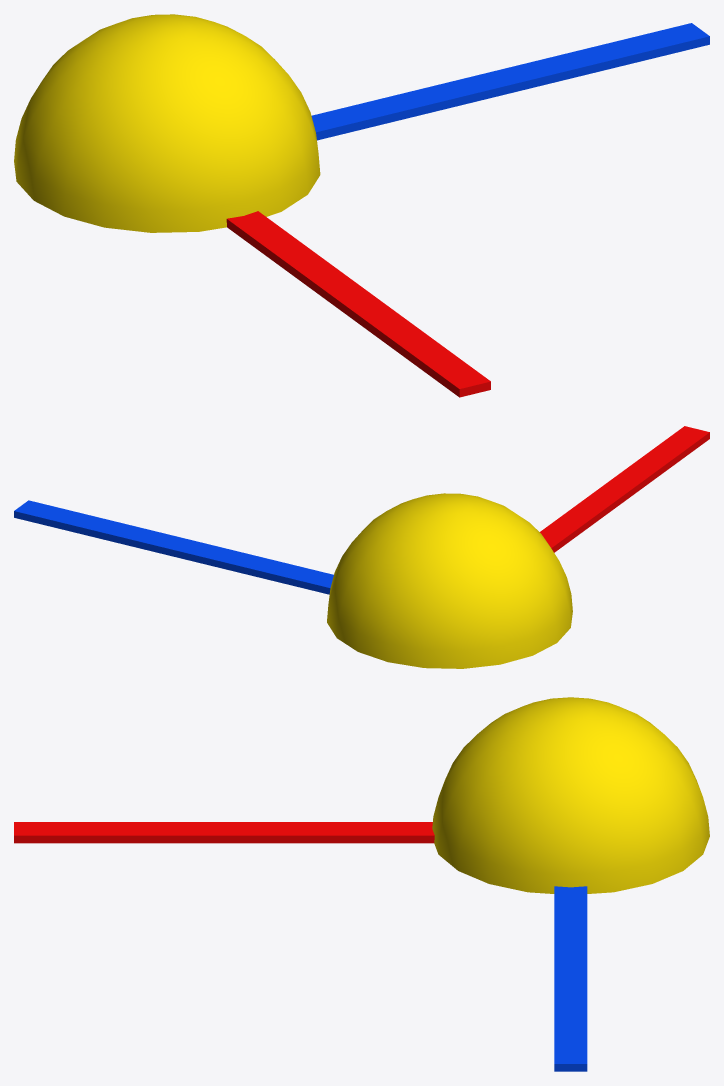
File: Pivot.fbx
The picture shows the model from 3 angles, top to bottom: view 1: azimuth 30°, elevation 25°; view 2: azimuth 150°, elevation 25°; view 3: azimuth 270°, elevation 25°; orthographic projection. The views are drawn at different scales.
Parts seen in each view (by area): view 1: PivotOrigin; view 2: PivotOrigin; view 3: PivotOrigin.
Boxes of the visible parts, x1,y1,x2,y2 form: PivotOrigin: (14, 14, 709, 397); PivotOrigin: (14, 426, 709, 668); PivotOrigin: (14, 697, 709, 1071).
Size of the model in its own units: 5 by 1 by 5.
Materials: 1 (1 with a texture image).
